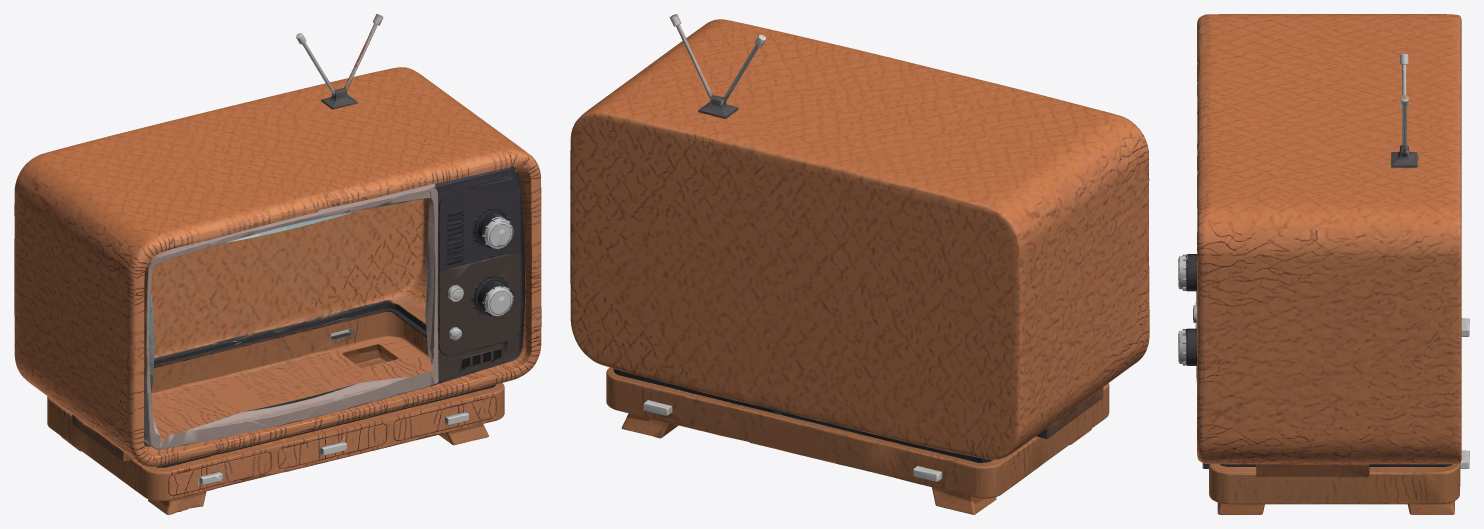
3 renders of one model, left to right at view 1: azimuth 30°, elevation 25°; view 2: azimuth 150°, elevation 25°; view 3: azimuth 270°, elevation 25°, orthographic. The views are drawn at different scales.
Size of the model in its own units: 1.9 by 1.62 by 1.06.
Materials: 1 (1 with a texture image).
